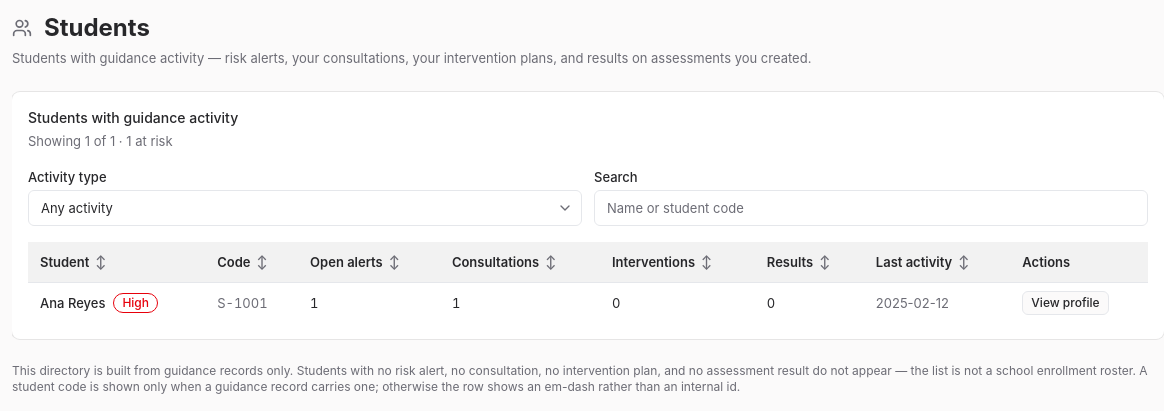
Test: StudentsPage › shows an empty state when filters exclude everything
This screenshot has width=1164, height=411.
Expected: the text "Ana Reyes" is shown, [40,293,105,313]
Type "zzzz-no-match" into the search field labelled "Search" at (871, 208), box [594,190,1148,226]
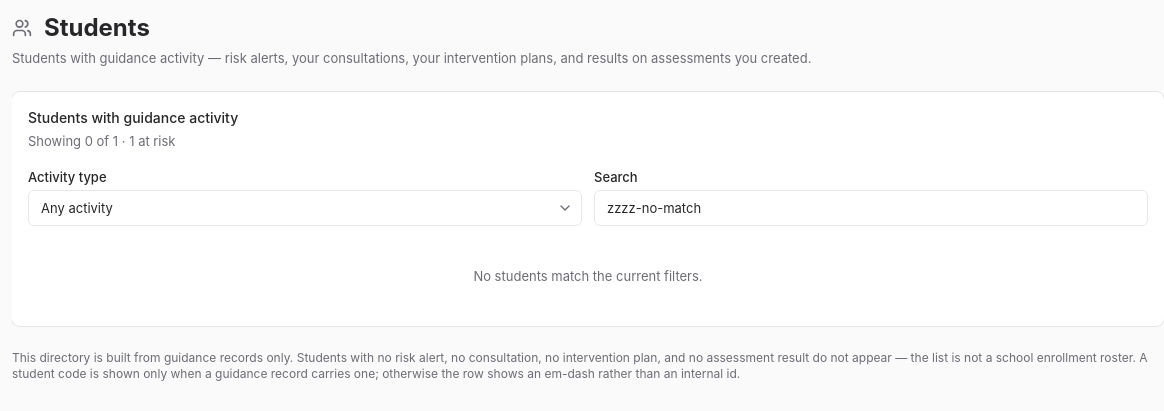
Expected: the text "No students match the current filters." is shown, [473,268,703,284]
